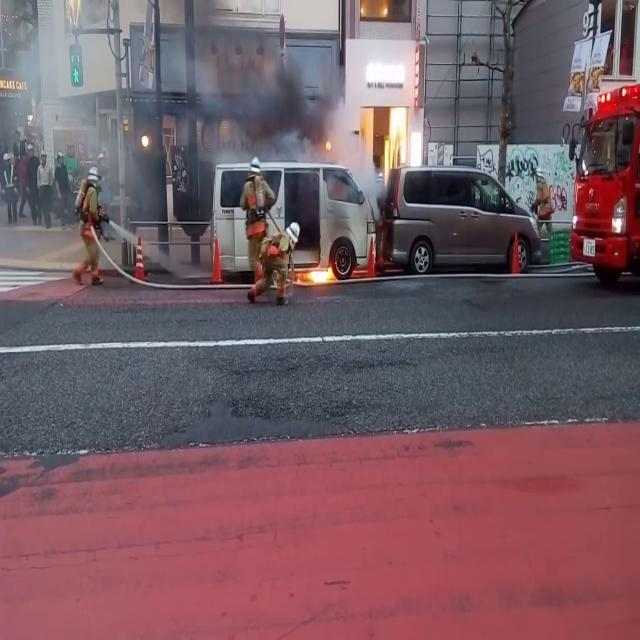Fire: (378, 94, 414, 180), (297, 256, 339, 290)
Smoke: (172, 0, 348, 170)
